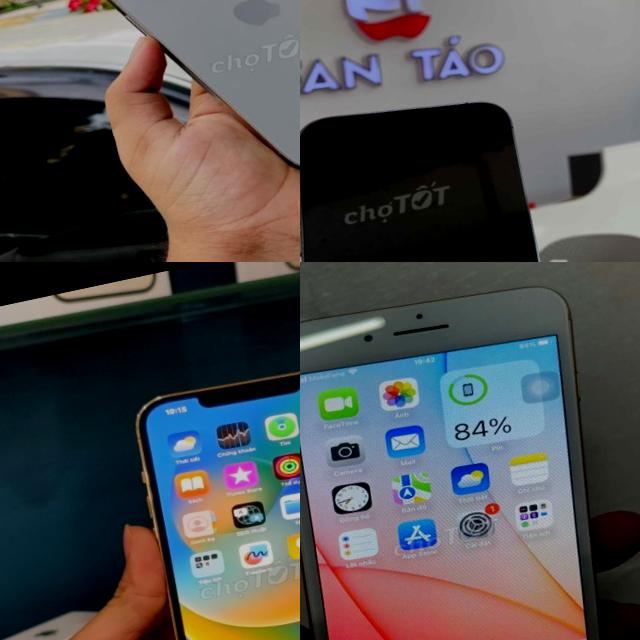gen_12_13: (121, 345, 300, 640)
gen_14: (300, 70, 596, 262)
gen_15: (50, 0, 300, 212)
gen_7_8: (300, 262, 640, 640)
